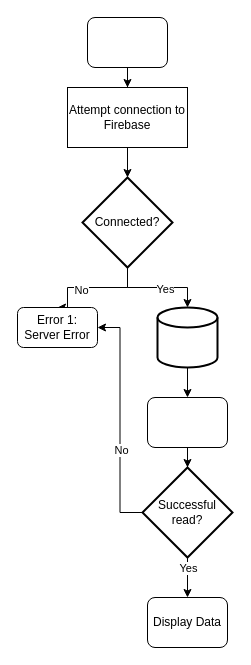
The diagram is 251 pixels wide and 665 high, and some of its shapes have lost their labels. Each missing label, with the centre of its shape:
"Firebase" goes at (187,337).
"Retrieve Data" goes at (187,422).
"Retrieve ENV" goes at (127,42).
